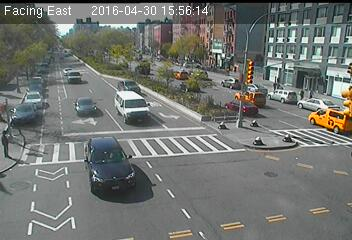neg: (216, 173, 244, 210), (240, 55, 266, 90), (153, 57, 178, 91), (106, 41, 131, 74), (270, 87, 294, 120), (127, 166, 150, 196), (109, 95, 130, 124), (204, 110, 224, 137), (166, 102, 186, 129), (92, 139, 112, 166), (248, 134, 266, 159), (77, 36, 91, 56)
pos: (1, 124, 27, 159), (299, 86, 309, 100)
